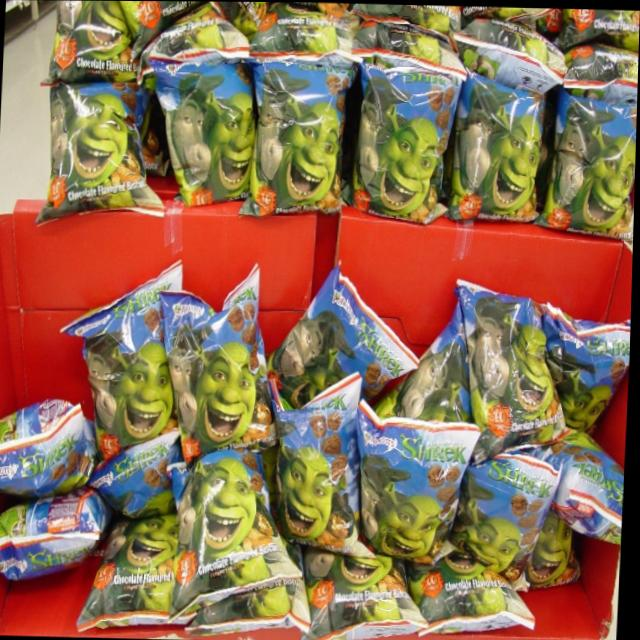q214: (452, 270, 572, 446), (44, 63, 162, 239), (351, 65, 466, 215), (366, 411, 462, 572), (256, 55, 349, 219), (276, 384, 368, 549), (73, 304, 178, 445), (184, 447, 285, 592), (171, 53, 261, 215), (182, 292, 277, 444), (455, 76, 541, 229), (465, 451, 557, 587), (558, 93, 638, 239)
